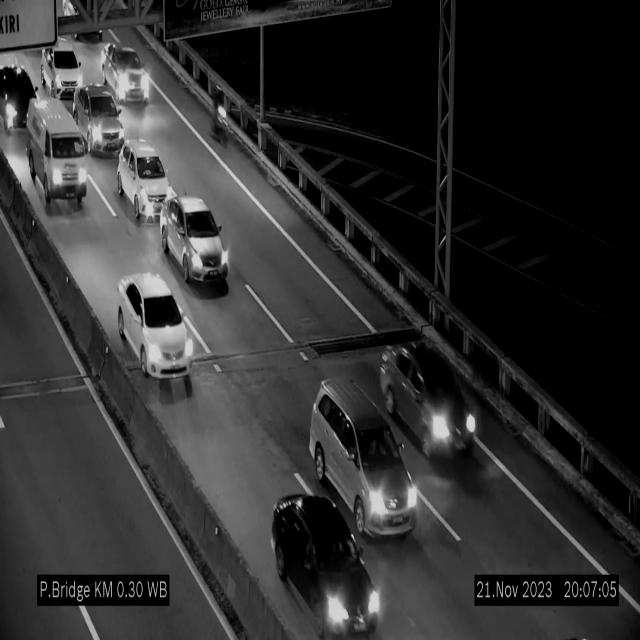Car: (269, 482, 389, 640), (308, 366, 422, 532), (384, 326, 474, 452), (118, 274, 193, 380), (26, 100, 94, 212), (160, 195, 228, 283), (117, 140, 177, 223), (72, 83, 130, 160), (0, 57, 46, 139), (41, 34, 89, 99), (102, 44, 152, 104)
Motorcycle: (212, 80, 230, 153)
